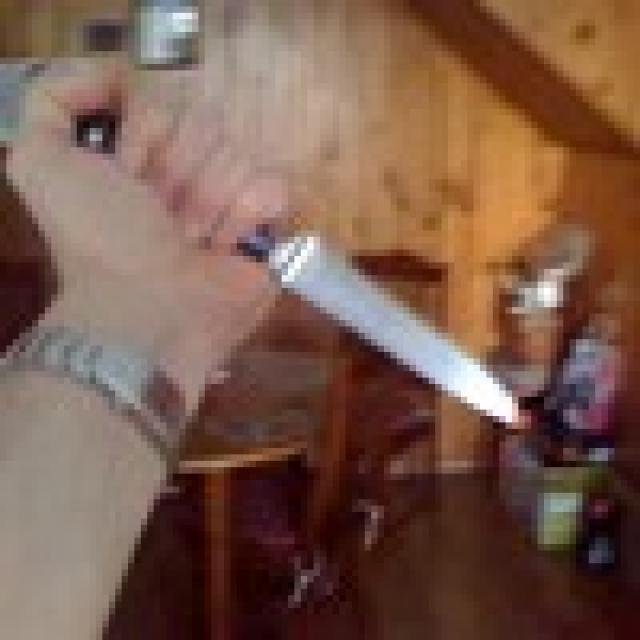Knife: (77, 109, 518, 422)
